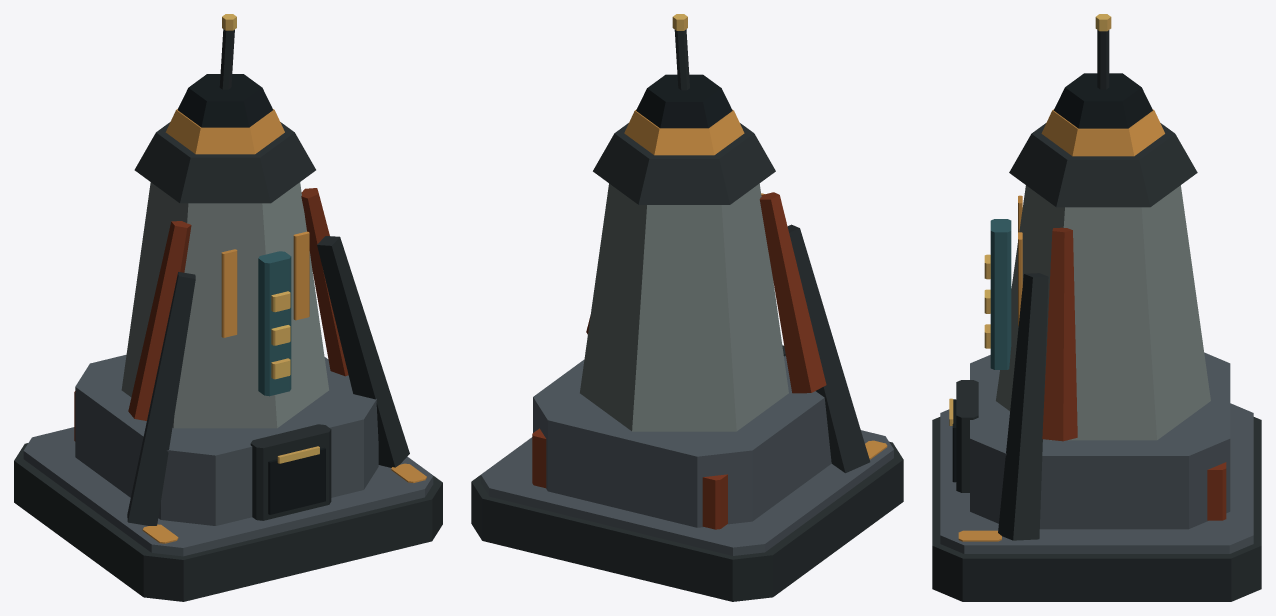
File: core_tower.glb
The picture shows the model from 3 angles, left to right: view 1: azimuth 30°, elevation 25°; view 2: azimuth 150°, elevation 25°; view 3: azimuth 270°, elevation 25°; orthographic projection. The views are drawn at different scales.
Parts seen in each view (by area): view 1: core_tower; view 2: core_tower; view 3: core_tower.
Part boxes in pixels (<box>): core_tower: <box>14,14,442,601</box>; core_tower: <box>471,14,903,601</box>; core_tower: <box>932,14,1261,601</box>.
Size of the model in its own units: 2.24 by 3.53 by 2.06.
